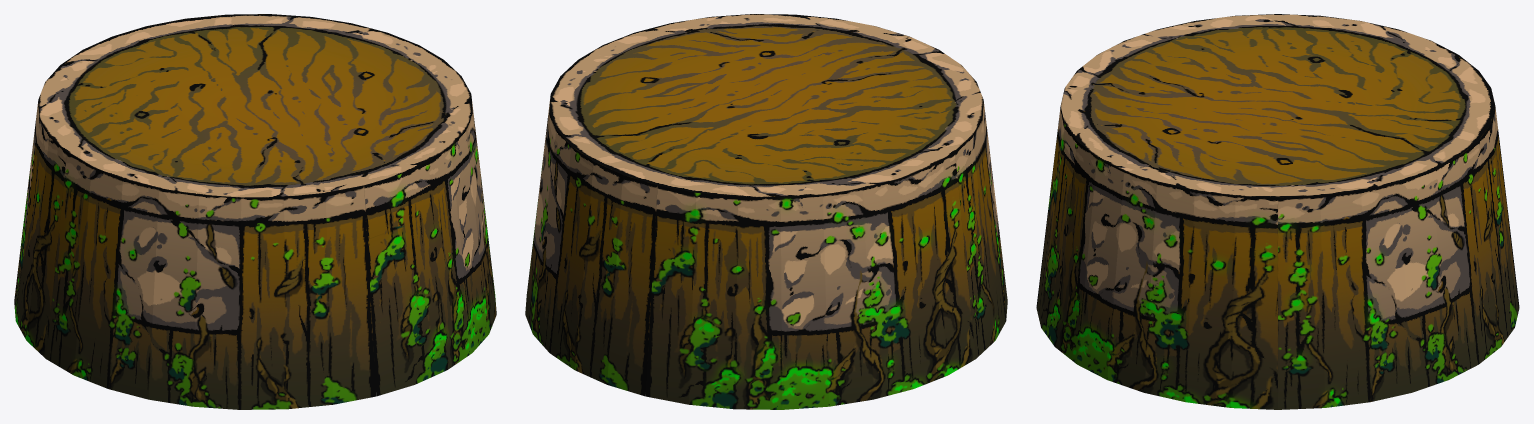
The picture shows the model from 3 angles, left to right: view 1: azimuth 30°, elevation 25°; view 2: azimuth 150°, elevation 25°; view 3: azimuth 270°, elevation 25°; orthographic projection.
Visible parts, largest first — view 1: Cylinder; view 2: Cylinder; view 3: Cylinder.
Part boxes in pixels (box(x1,y1,x2,y2)): Cylinder: box(14, 14, 496, 409); Cylinder: box(525, 14, 1007, 409); Cylinder: box(1036, 14, 1519, 409).
Size of the model in its own units: 2 by 0.9229 by 2.
Materials: 1 (1 with a texture image).
